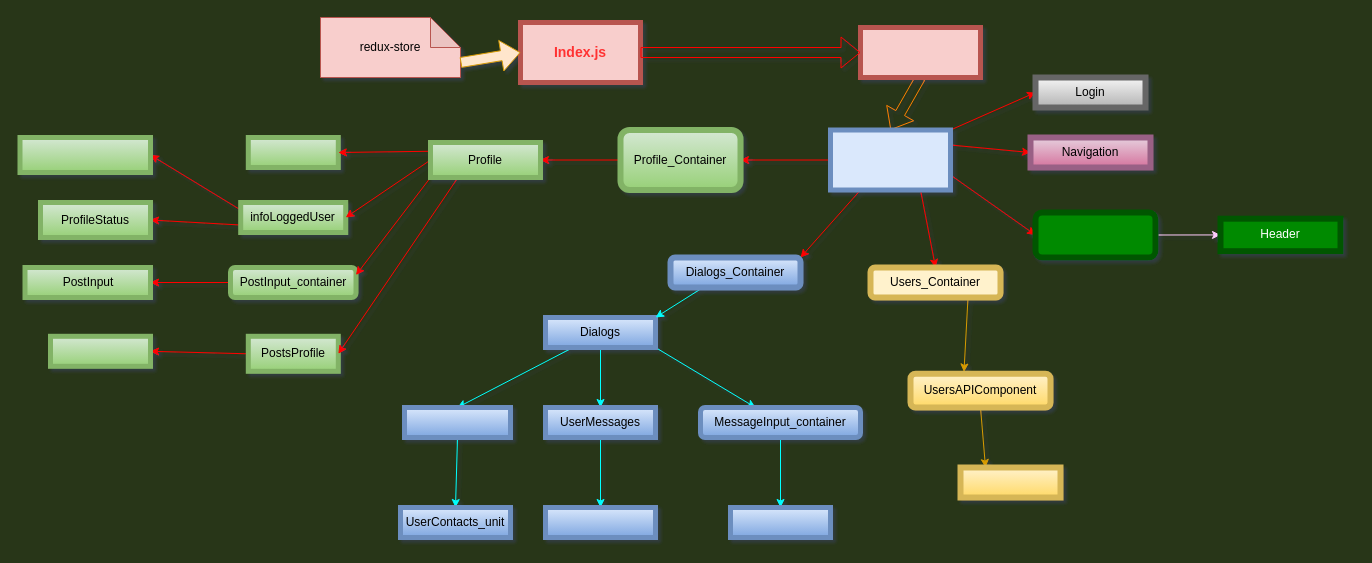
The diagram is 1372 pixels wide and 563 high, and some of its shapes have lost their labels. Here are the shapes that lost their labels. From the top down, the box of each, then its label:
(858, 24, 982, 80): App.js
(17, 134, 152, 174): InfoUser_unit
(245, 134, 340, 170): ProfileHeader
(828, 127, 952, 192): < BrowserRouter >
(1032, 209, 1158, 260): Header_Container
(48, 333, 152, 368): PostsProfile_unit
(402, 404, 512, 440): UserContacts
(957, 464, 1063, 500): Users
(542, 504, 658, 540): UserMessages_unit
(728, 504, 832, 540): MessageInput
